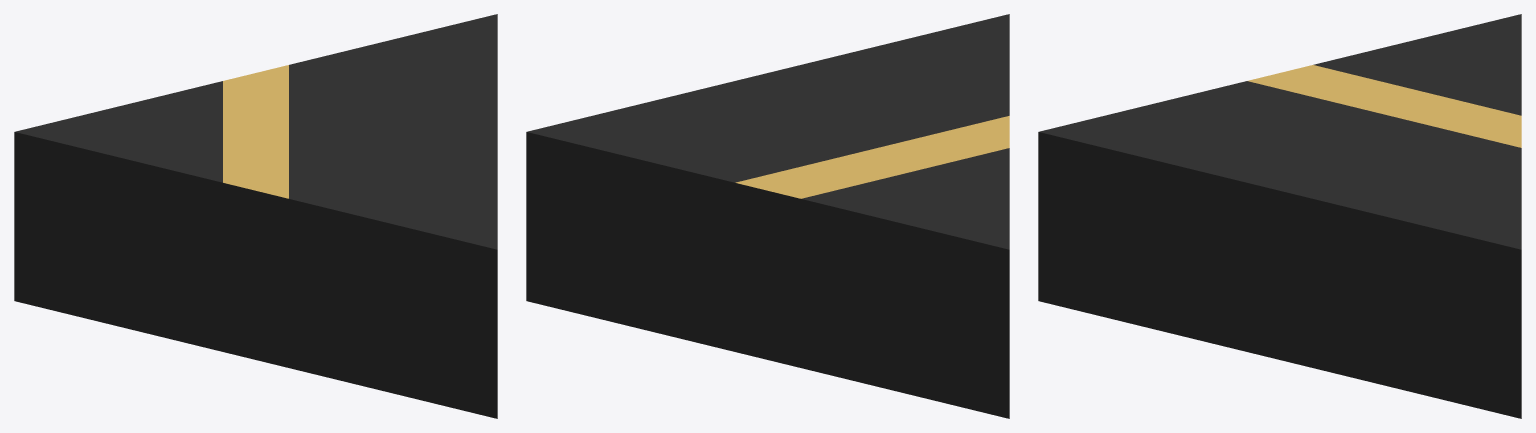
File: Road_Connect_1.fbx
3 renders of one model, left to right at view 1: azimuth 30°, elevation 25°; view 2: azimuth 150°, elevation 25°; view 3: azimuth 270°, elevation 25°, orthographic.
Parts seen in each view (by area): view 1: Road_connect1; view 2: Road_connect1; view 3: Road_connect1.
Part boxes in pixels (bbox=[...]): Road_connect1: bbox=[14, 14, 497, 418]; Road_connect1: bbox=[526, 14, 1009, 418]; Road_connect1: bbox=[1038, 14, 1521, 418].
Bounding box in the file's own units: 29.6 × 9.91 × 25.63.
